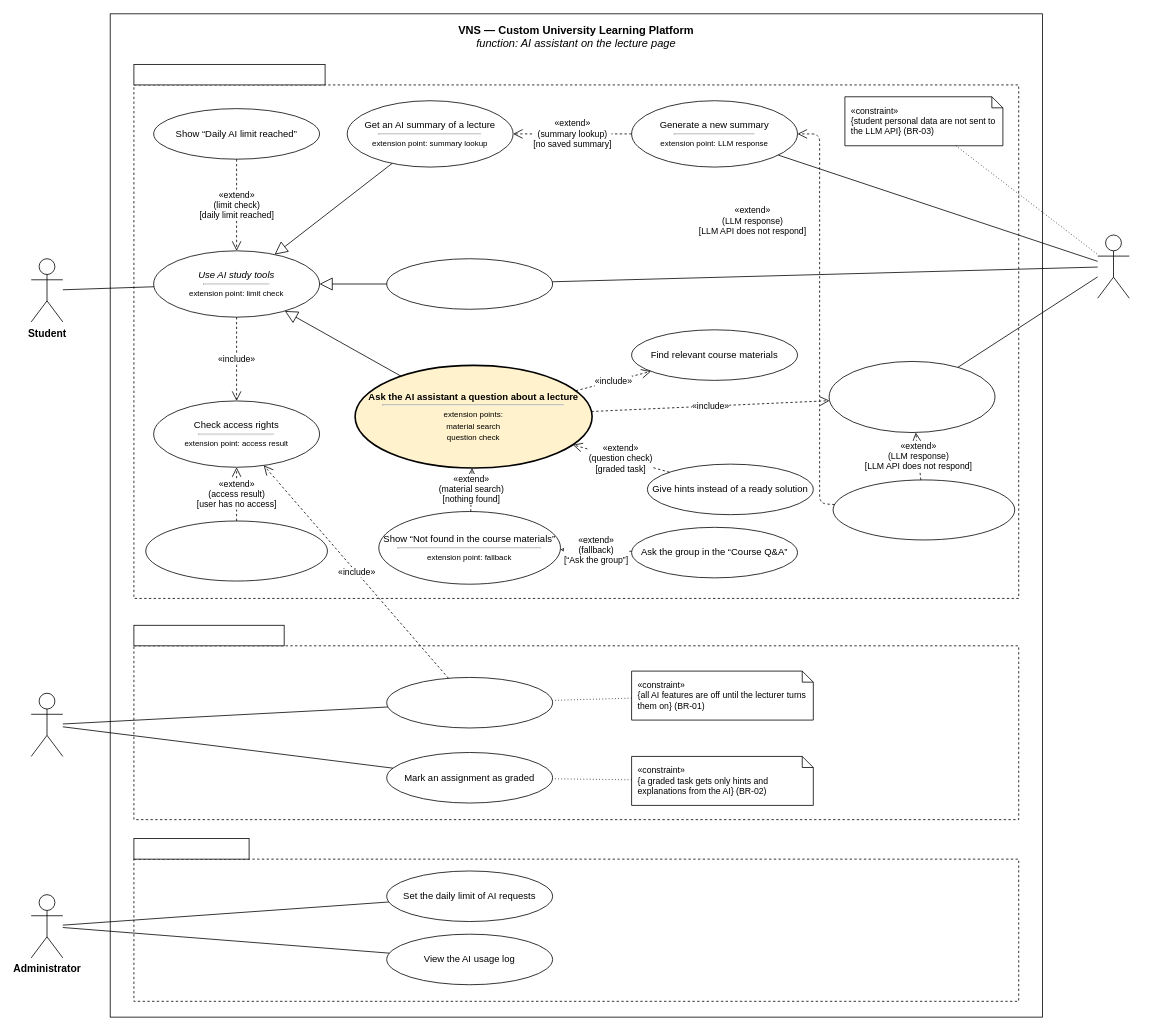
Some shapes in this 1162 by 1031 pixel diagram are drawn without their labels. The centre of each missing label's shape, as x and y in pixels:
AI administration: (x=191, y=848)
AI settings of a course: (x=208, y=635)
Choose the AI features of a course: (x=469, y=702)
Generate a quiz or flashcards: (x=469, y=283)
Generate an answer with links to the slides extension point: LLM response: (x=911, y=397)
Learning with the AI assistant: (x=229, y=74)
Lecturer: (x=46, y=724)
LLM API «external system»: (x=1113, y=266)
Show “The AI assistant is not available now”: (x=923, y=509)
Show “You do not have access to this page”: (x=236, y=550)
